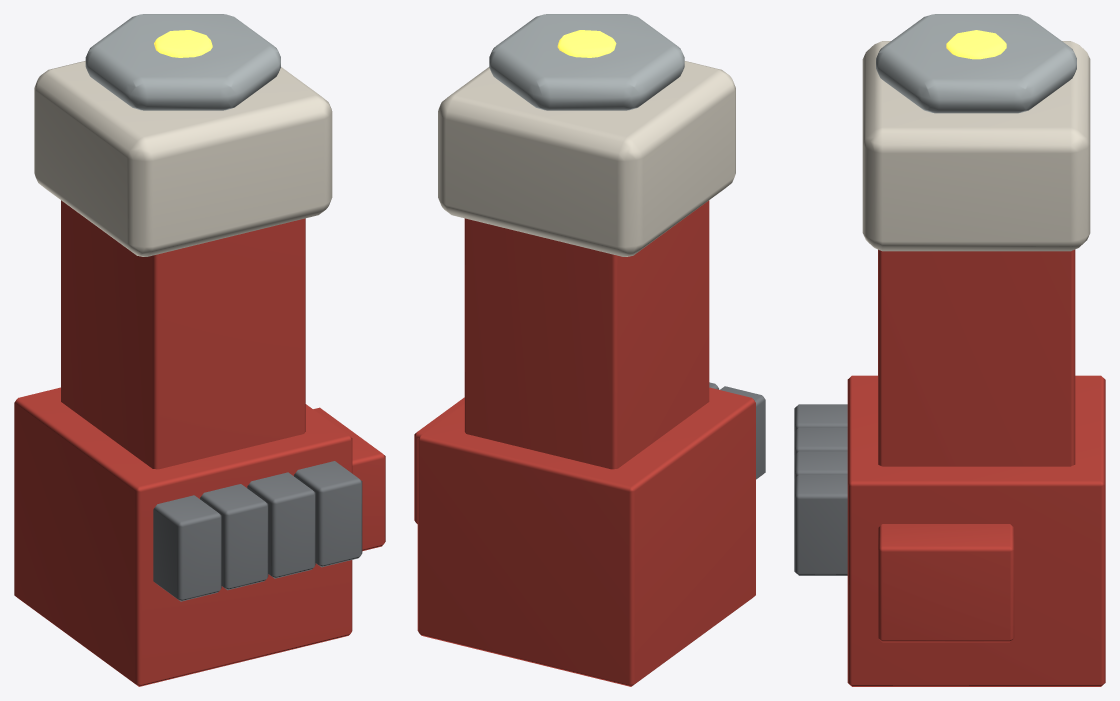
File: everykit_standard_fist.glb
The picture shows the model from 3 angles, left to right: view 1: azimuth 30°, elevation 25°; view 2: azimuth 150°, elevation 25°; view 3: azimuth 270°, elevation 25°; orthographic projection. The views are drawn at different scales.
Parts seen in each view (by area): view 1: everykit_standard_fist; view 2: everykit_standard_fist; view 3: everykit_standard_fist.
Part boxes in pixels (bbox=[...]): everykit_standard_fist: bbox=[14, 14, 385, 686]; everykit_standard_fist: bbox=[414, 14, 765, 686]; everykit_standard_fist: bbox=[794, 14, 1105, 686].
Size of the model in its own units: 0.415 by 0.8625 by 0.41.
1 material, 1 textured.
